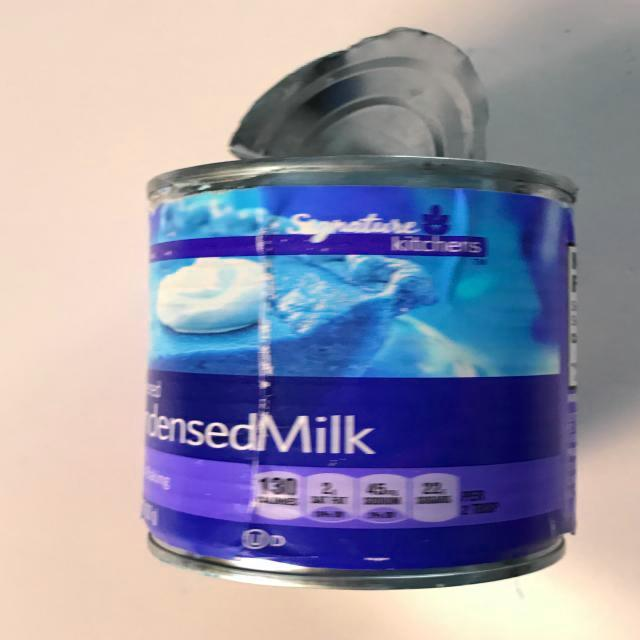metal: (128, 24, 602, 609)
